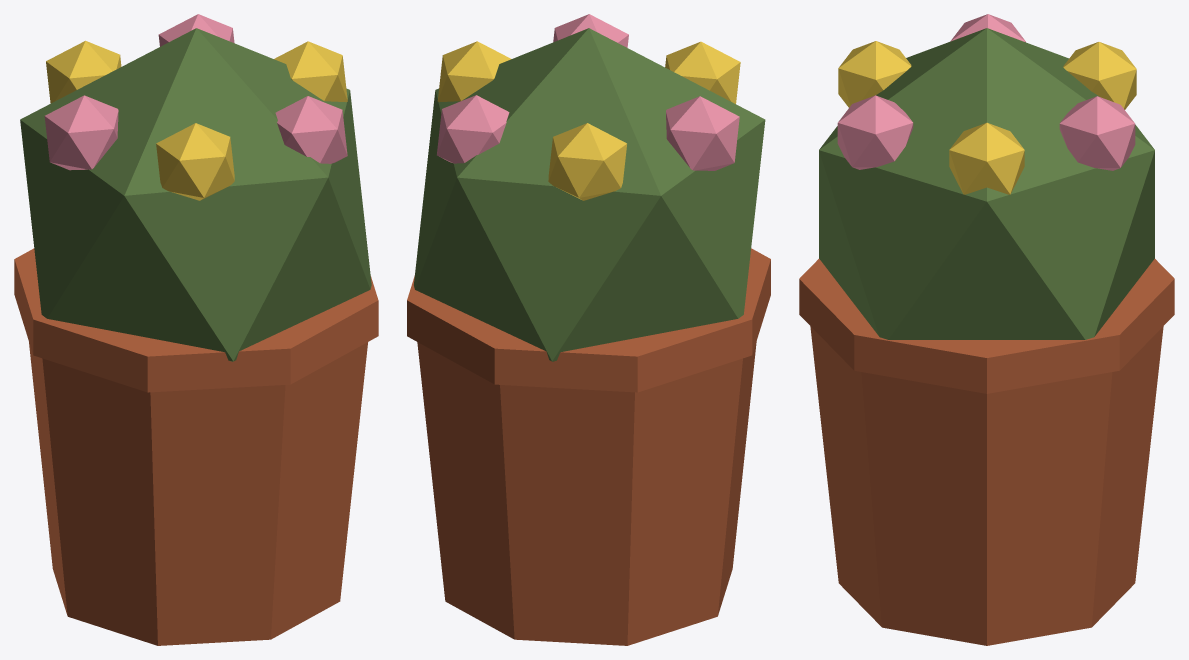
File: lwf_garden_pot_flowers_v1.glb
The picture shows the model from 3 angles, left to right: view 1: azimuth 30°, elevation 25°; view 2: azimuth 150°, elevation 25°; view 3: azimuth 270°, elevation 25°; orthographic projection.
Visible parts, largest first — view 1: LWF_GardenPot; view 2: LWF_GardenPot; view 3: LWF_GardenPot.
Boxes of the visible parts, x1,y1,x2,y2 form: LWF_GardenPot: [14, 14, 378, 645]; LWF_GardenPot: [407, 14, 770, 645]; LWF_GardenPot: [799, 14, 1174, 645].
Bounding box in the file's own units: 0.38 × 0.62 × 0.38.
Materials: 1 (1 with a texture image).
